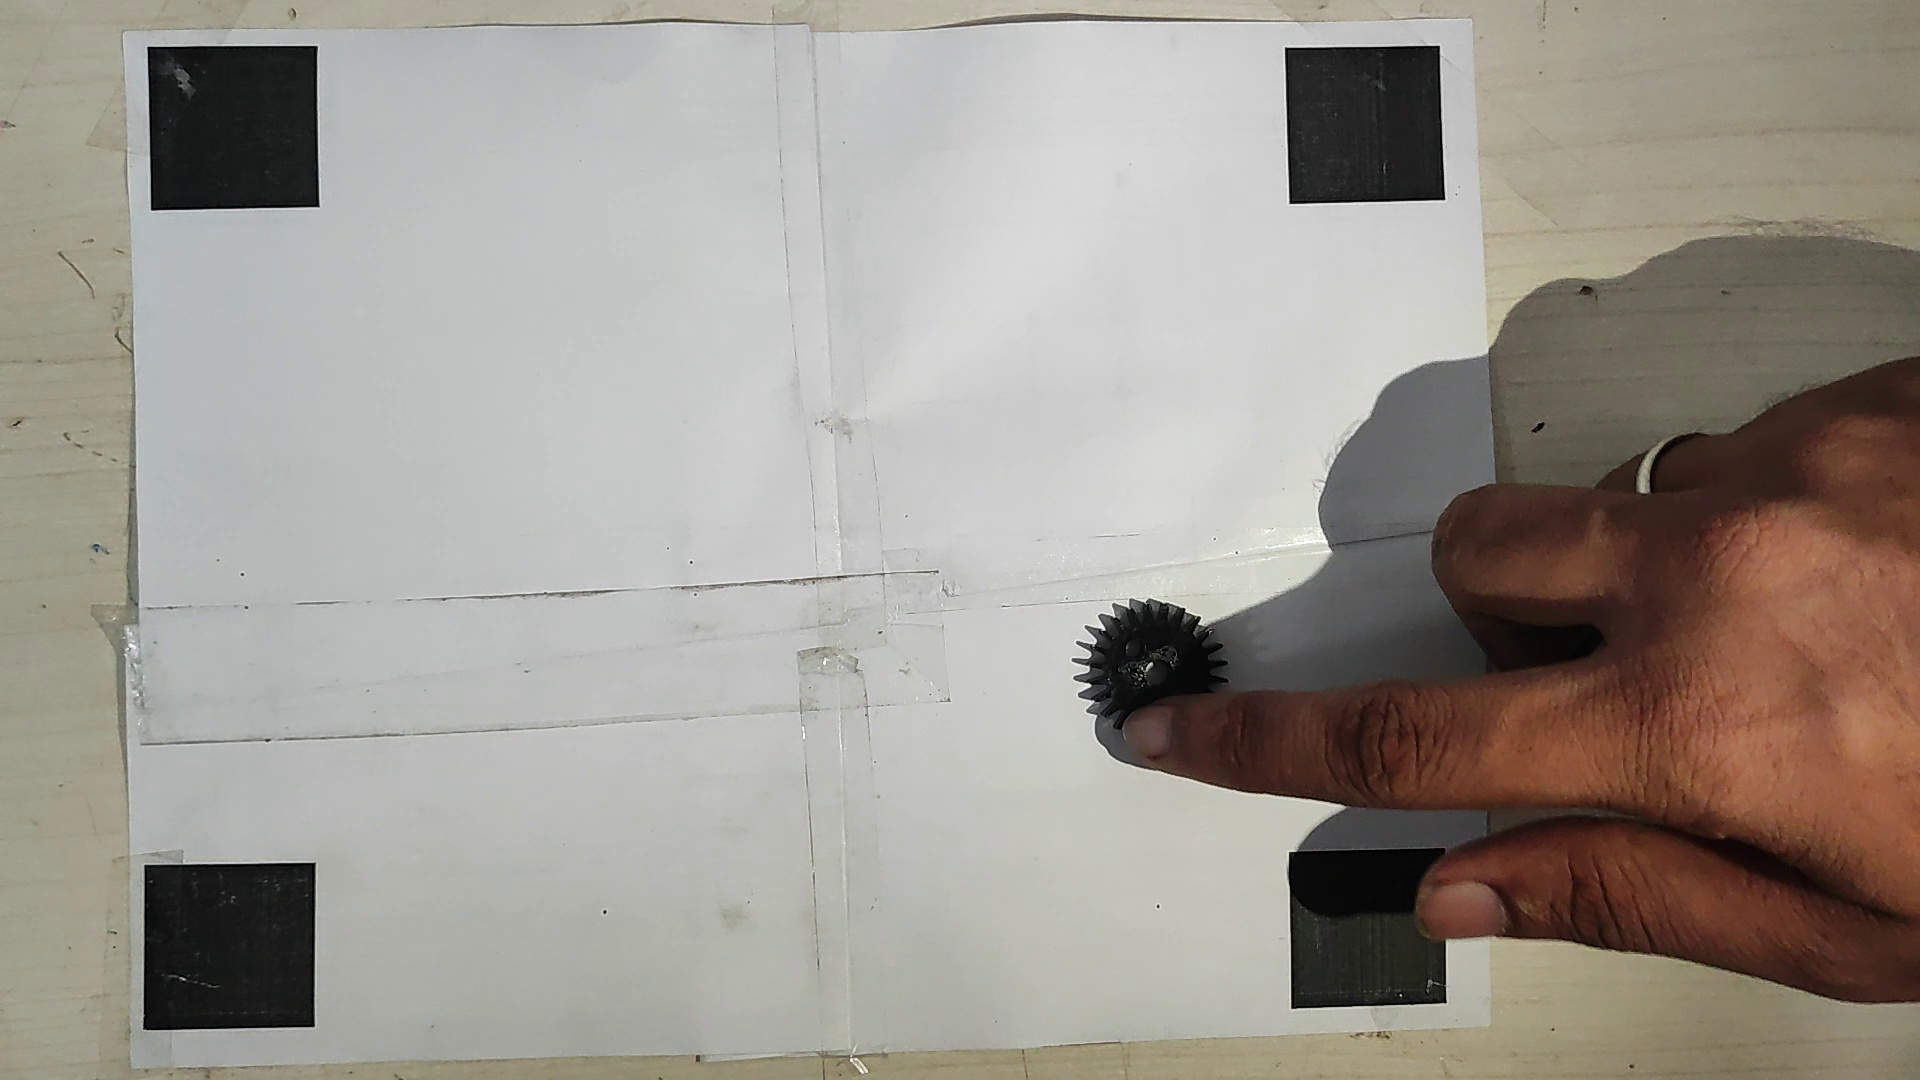Gear: (1069, 599, 1234, 737)
